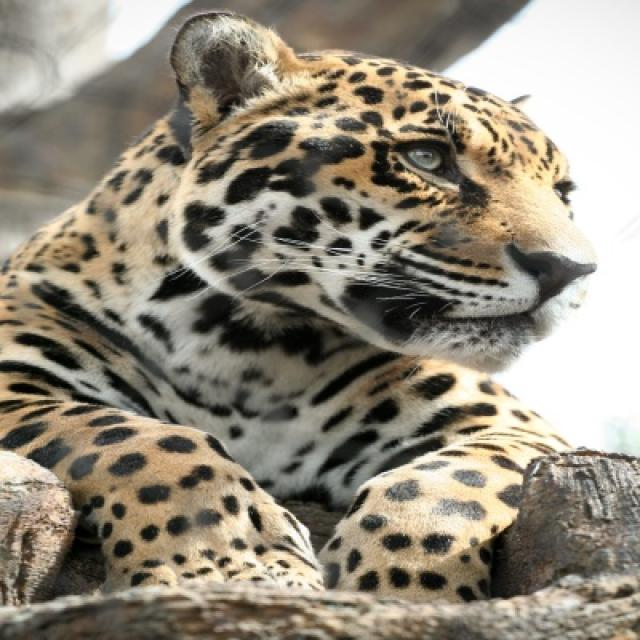Jaguar: (0, 13, 597, 606)
